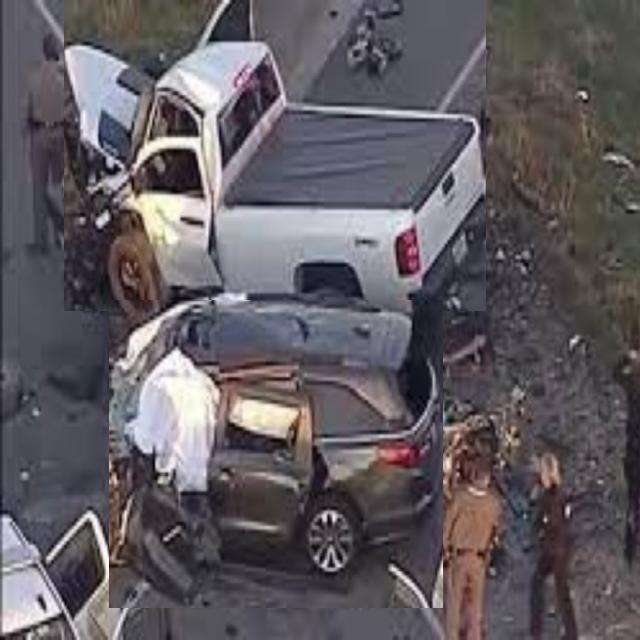accident: (64, 0, 486, 311), (110, 301, 443, 608)
